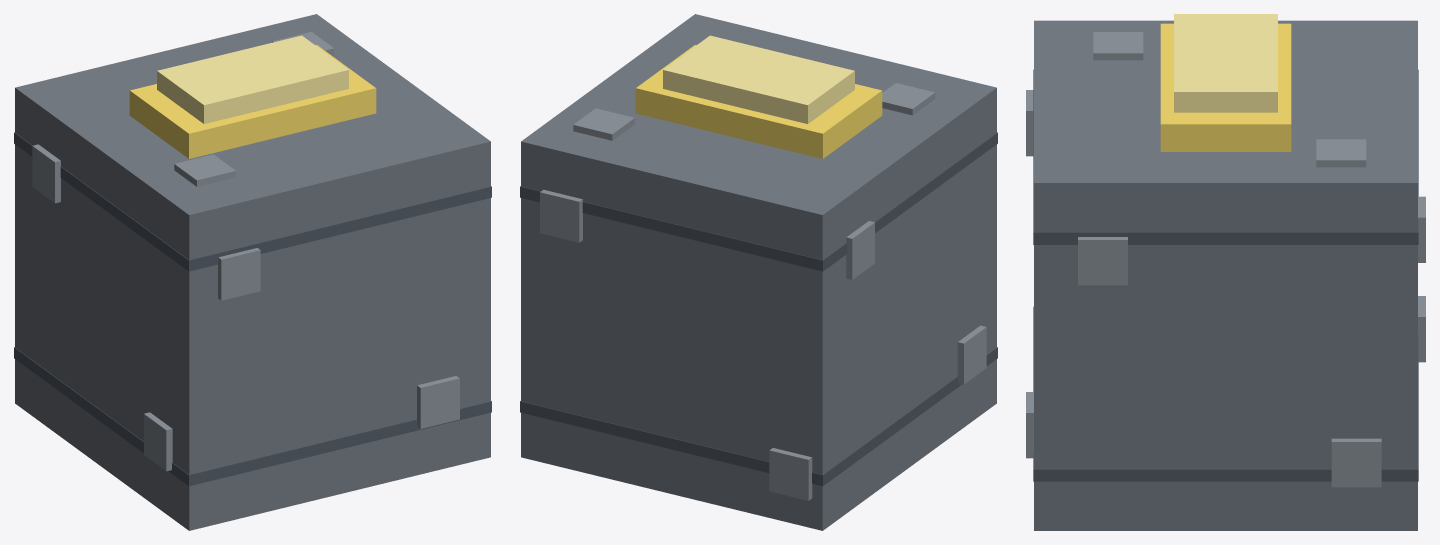
The model's file is gold_bar_ore_block.glb.
The picture shows the model from 3 angles, left to right: view 1: azimuth 30°, elevation 25°; view 2: azimuth 150°, elevation 25°; view 3: azimuth 270°, elevation 25°; orthographic projection. The views are drawn at different scales.
Parts seen in each view (by area): view 1: dark_stone_core, gold_ingot_upper, gold_ingot_lower, dark_seam_1, dark_seam, stone_chip_1, stone_chip, stone_chip_6, stone_chip_7, stone_chip_8; view 2: dark_stone_core, gold_ingot_upper, gold_ingot_lower, dark_seam, dark_seam_1, stone_chip_2, stone_chip_3, stone_chip_7, stone_chip_6, stone_chip_9, stone_chip_8; view 3: dark_stone_core, gold_ingot_upper, gold_ingot_lower, dark_seam_1, dark_seam, stone_chip_5, stone_chip_4, stone_chip_8, stone_chip_9, stone_chip_3, stone_chip, stone_chip_1 (+1 smaller).
Boxes of the visible parts, x1,y1,x2,y2 form: dark_stone_core: (15,14,490,530); gold_ingot_upper: (157,35,348,123); gold_ingot_lower: (129,45,376,158); dark_seam_1: (14,132,491,271); dark_seam: (14,347,491,486); stone_chip_1: (417,376,459,428); stone_chip: (218,248,260,300); stone_chip_6: (32,144,60,203); stone_chip_7: (144,412,172,471); stone_chip_8: (174,154,235,186); dark_stone_core: (521,14,996,530); gold_ingot_upper: (663,35,854,123); gold_ingot_lower: (635,45,882,158); dark_seam: (520,347,997,486); dark_seam_1: (520,132,997,271); stone_chip_2: (769,448,812,500); stone_chip_3: (540,189,582,242); stone_chip_7: (957,325,986,384); stone_chip_6: (846,221,874,279); stone_chip_9: (573,108,634,140); stone_chip_8: (882,83,935,115); dark_stone_core: (1034,20,1417,530); gold_ingot_upper: (1174,14,1277,112); gold_ingot_lower: (1160,23,1291,151); dark_seam_1: (1033,69,1418,244); dark_seam: (1033,306,1418,481); stone_chip_5: (1331,438,1381,487); stone_chip_4: (1078,237,1127,285); stone_chip_8: (1093,32,1143,60); stone_chip_9: (1316,139,1366,167); stone_chip_3: (1418,196,1425,262); stone_chip: (1026,90,1033,156); stone_chip_1: (1026,392,1033,458).
Size of the model in its own units: 1.04 by 1.16 by 1.04.
